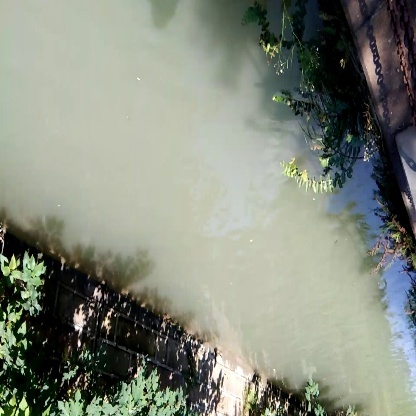grass: (275, 148, 361, 196)
